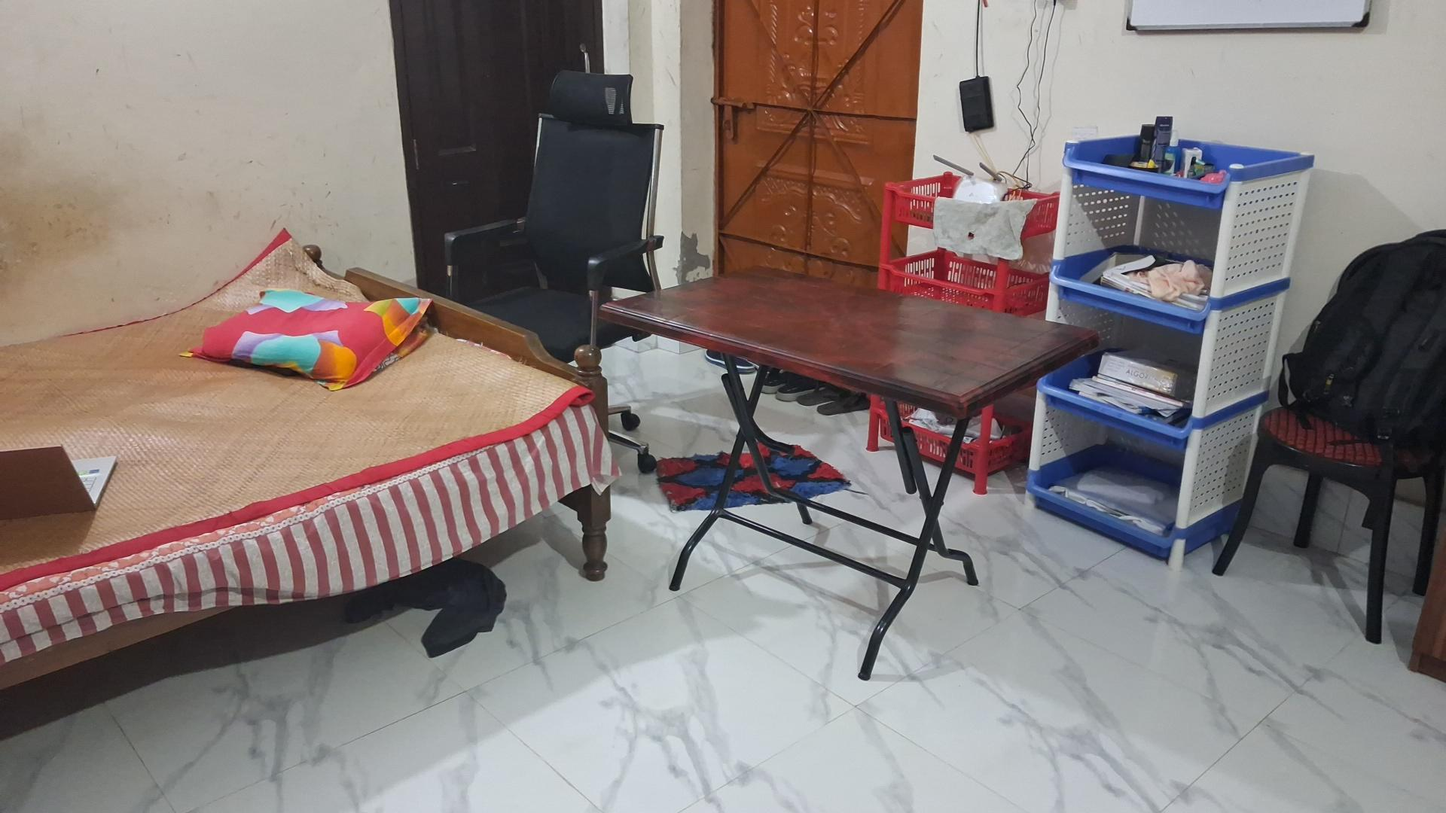Bag: (1261, 215, 1446, 472)
Chair: (1211, 398, 1445, 643), (444, 111, 665, 363)
Floor Mat: (638, 431, 856, 513)
Laptop: (0, 437, 130, 503)
Pillow: (174, 279, 438, 384)
Rack: (1048, 97, 1300, 610)
Table: (585, 221, 1087, 651)
